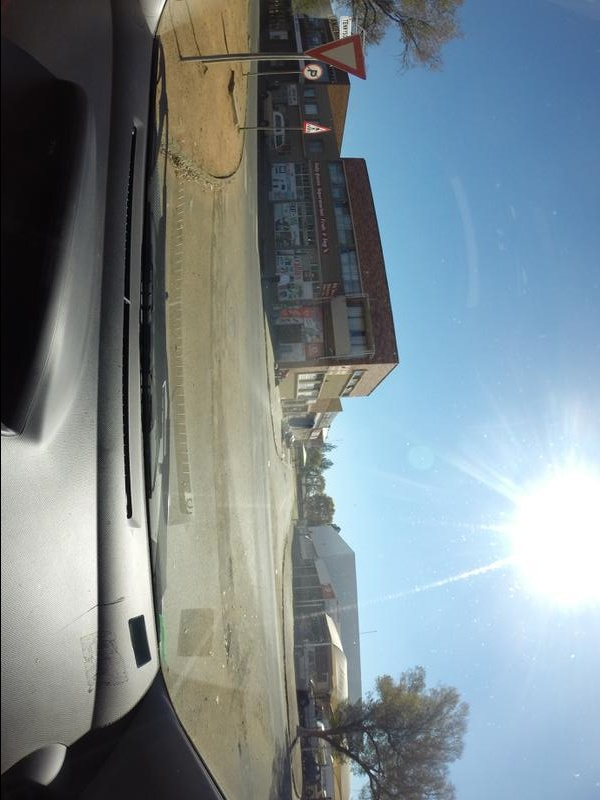pothole: (227, 713, 255, 770), (214, 621, 239, 669), (221, 555, 241, 607)
